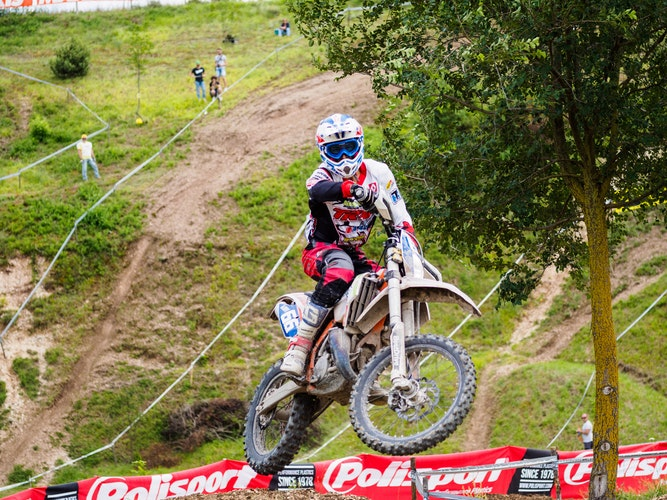helmet: (308, 111, 369, 177)
